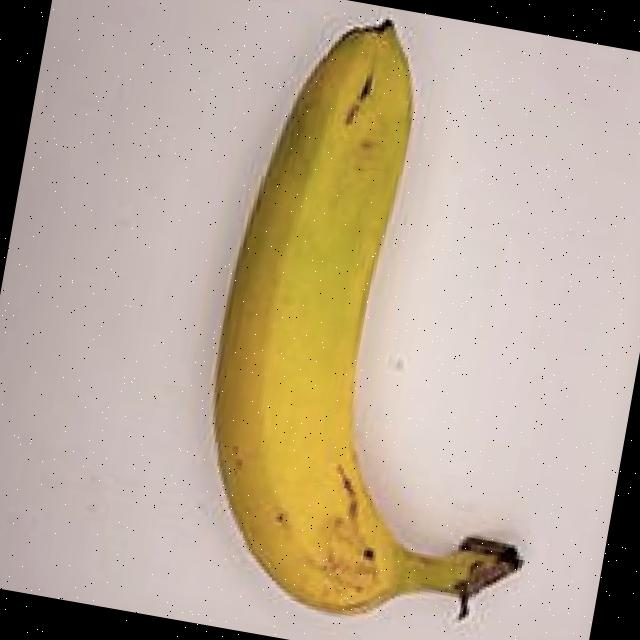Ripe: (122, 0, 627, 640)
